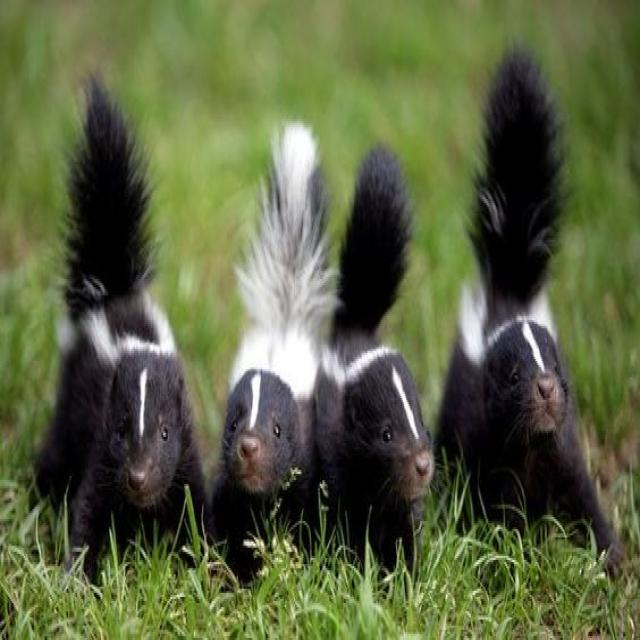Skunk: (18, 78, 203, 584)
